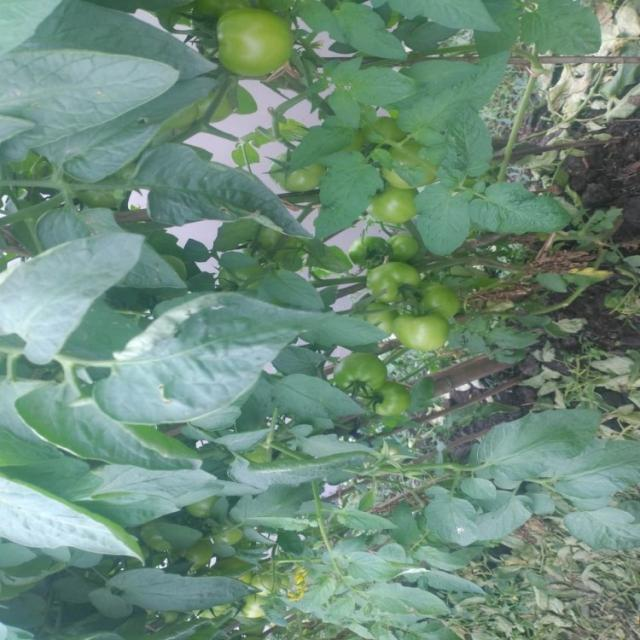tomato: (211, 10, 306, 99), (267, 154, 341, 216), (368, 258, 434, 316), (380, 135, 437, 197), (235, 573, 301, 625), (373, 176, 431, 231), (414, 267, 472, 321), (394, 289, 446, 345), (227, 207, 272, 261), (334, 345, 382, 395), (184, 524, 230, 567), (356, 298, 405, 338), (139, 517, 187, 549), (185, 486, 217, 531), (373, 387, 411, 420), (218, 524, 253, 556)
